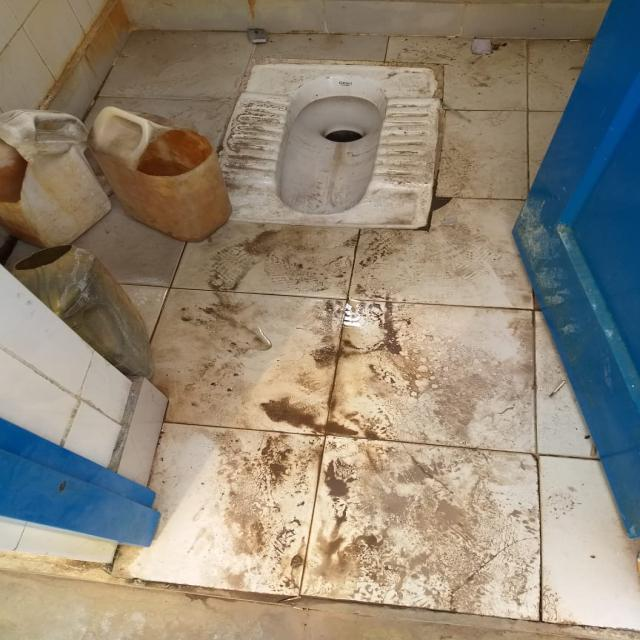dirty_floor: (2, 24, 636, 632), (151, 227, 546, 615), (220, 60, 442, 229), (135, 126, 212, 177), (322, 127, 364, 143)
